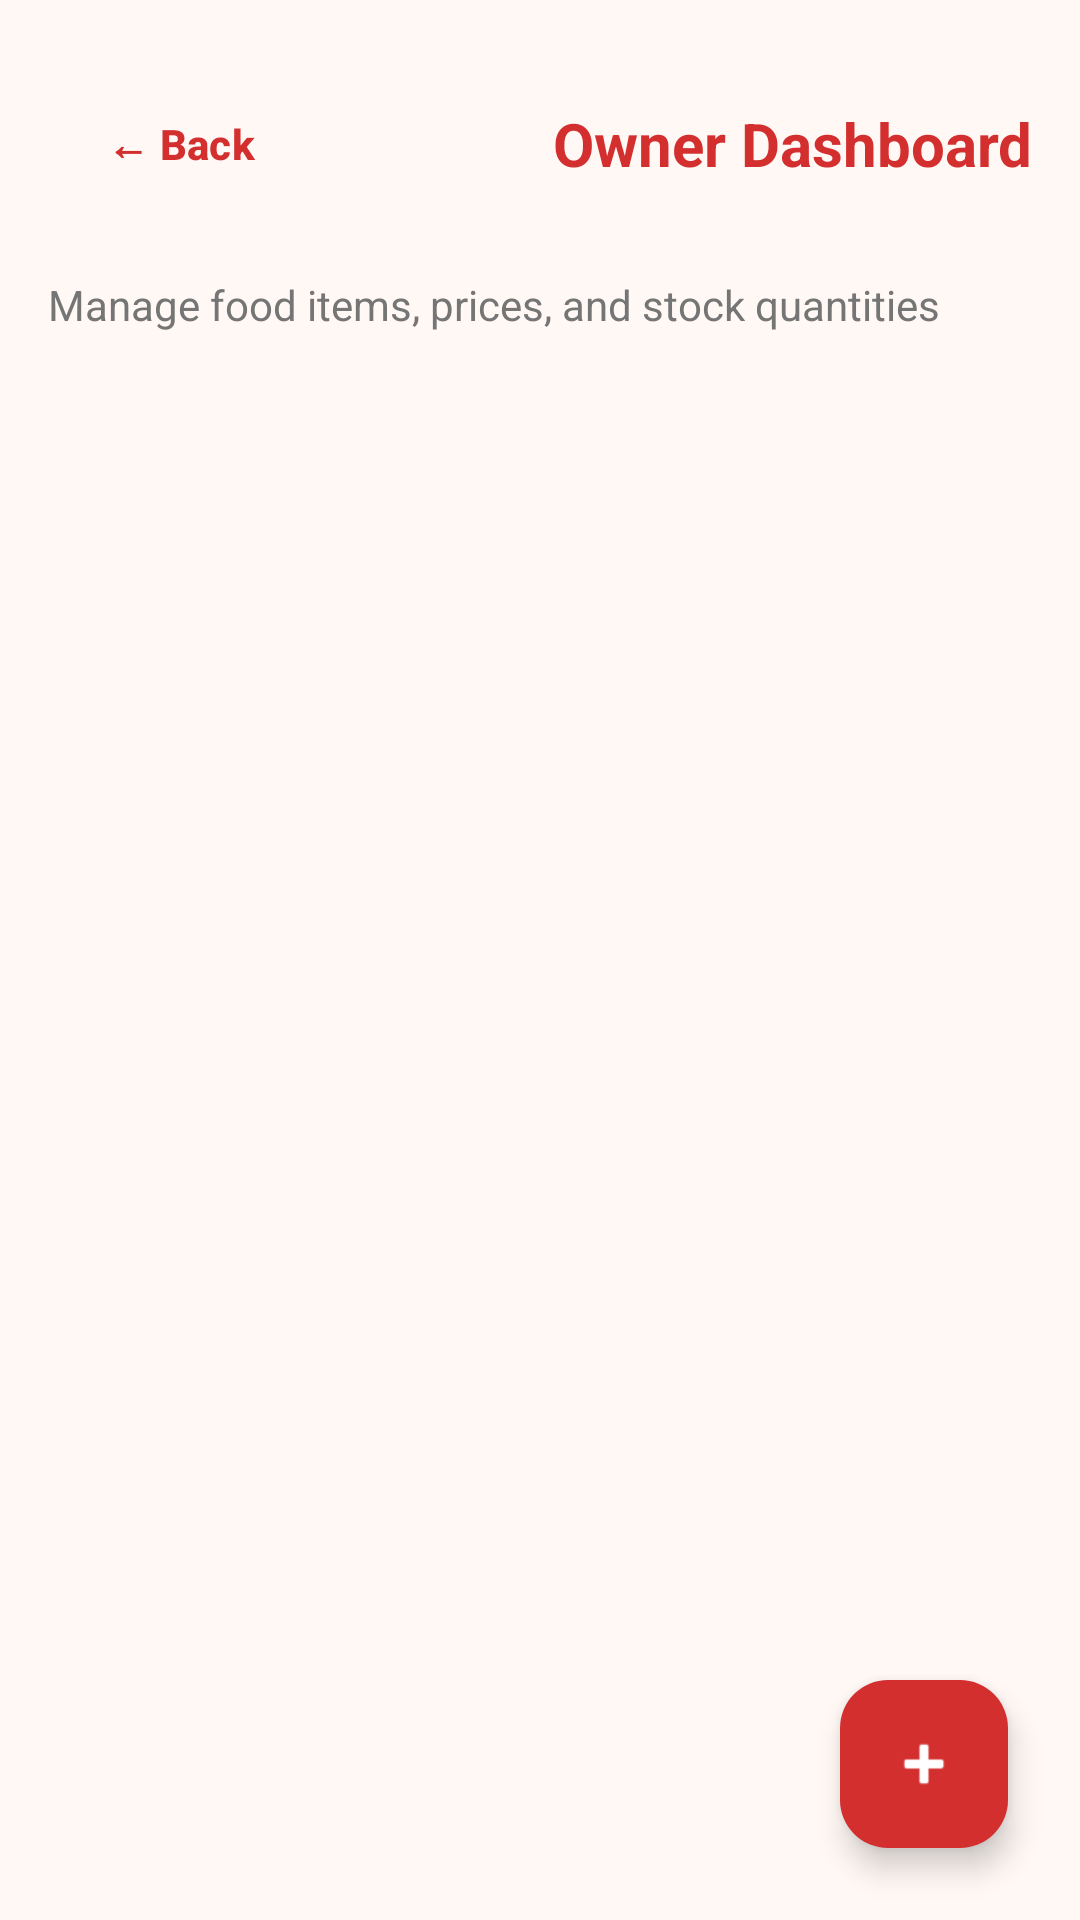

Named icons in this screenshot (1080×1920) and their bounding boxes, box(x1, y1, x2, y2):
Add New Food Item: box(840, 1680, 1008, 1848)
